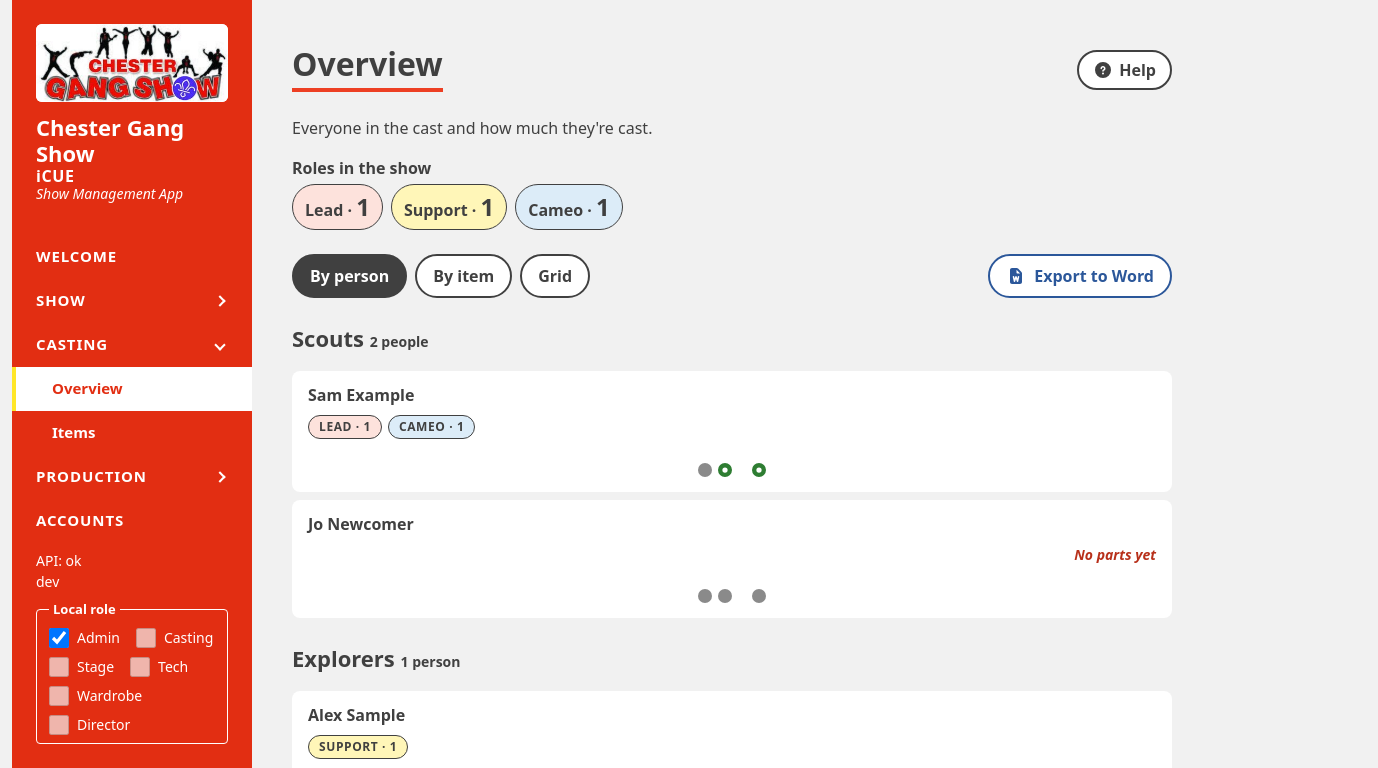
Test: Casting grid on the Overview › switches to a grid on the same page
The width and height of the screenshot is (1378, 768).
Click the button "Grid": (555, 276) [520,254,590,298]
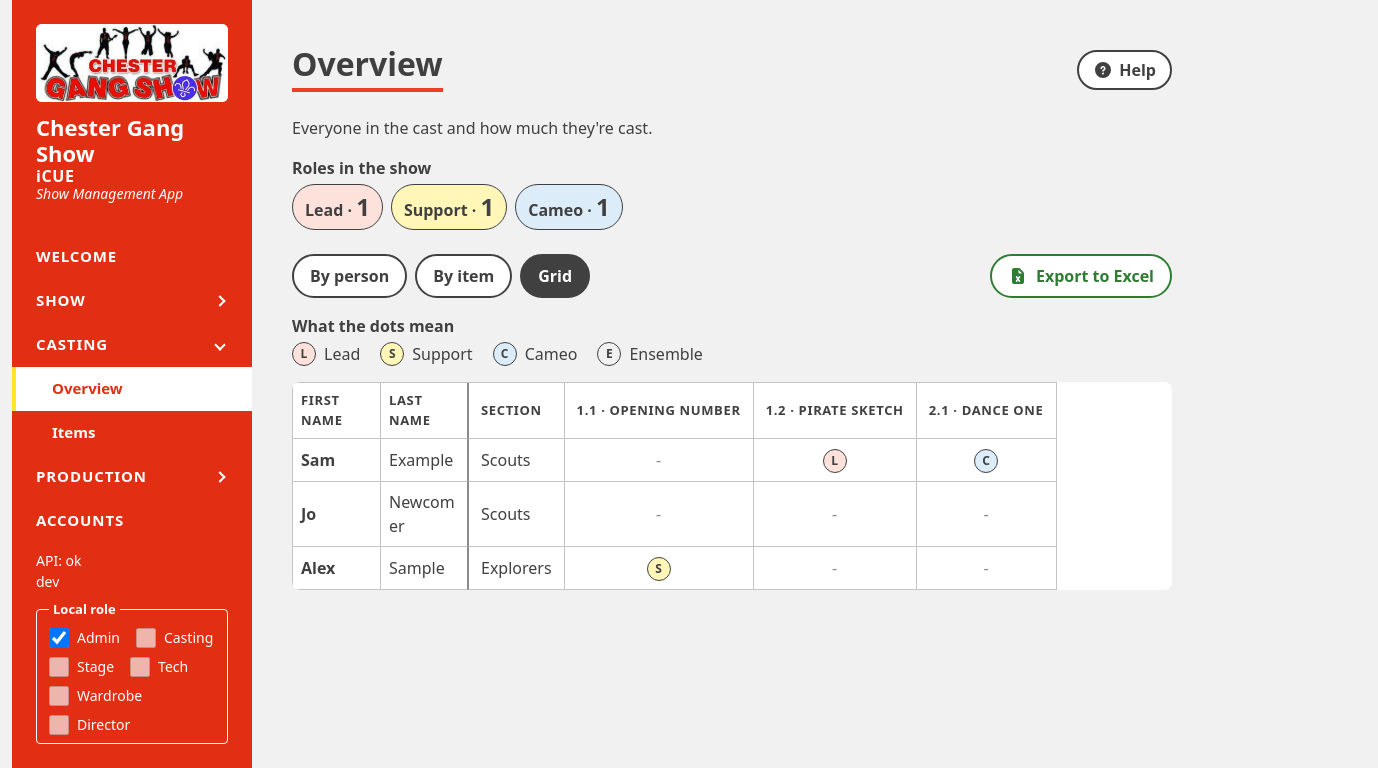
Expected: the heading "Overview" is shown, [292,40,443,92]
Expected: the table is shown, [292,382,1056,590]
